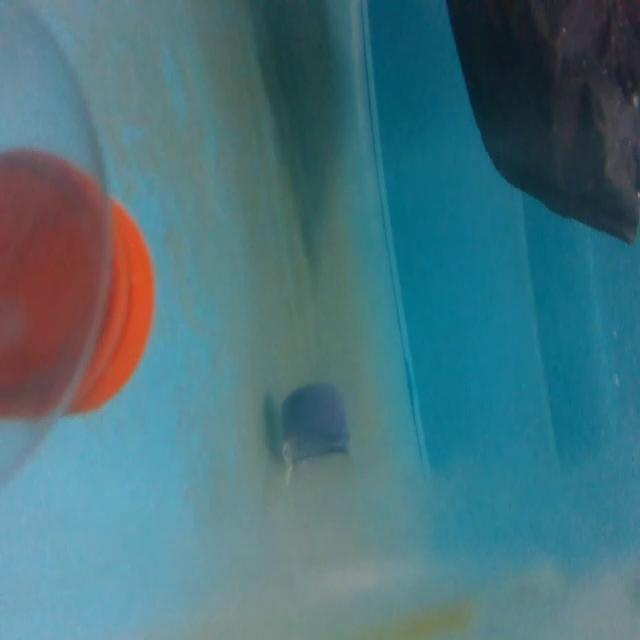plastic bags: (443, 1, 640, 251)
